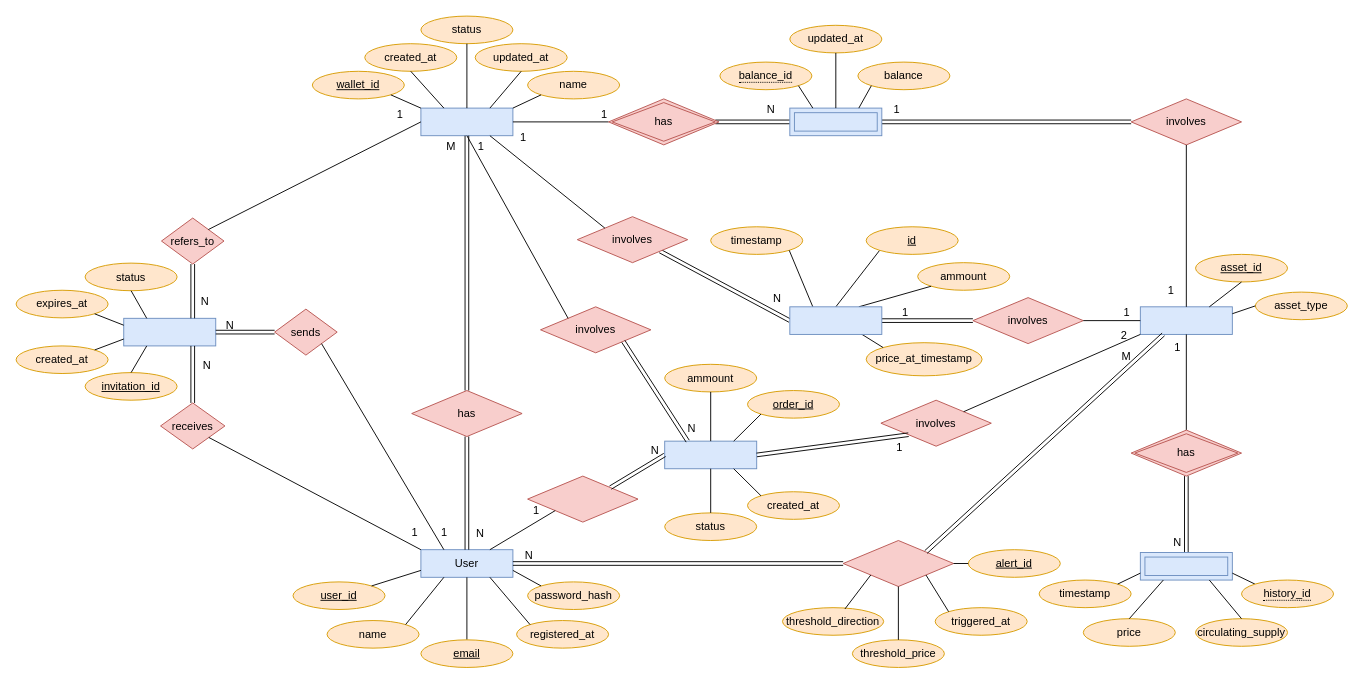
Image size: 1363x684. Some labels were removed from this diagram. The box of each missing label's shape, as (x1, y1, x2, y2) in pixels:
Asset: (1139, 306, 1232, 334)
AssetBalance: (789, 107, 882, 136)
AssetHistory: (1139, 552, 1232, 580)
gets_alert_from: (842, 540, 954, 586)
Invitation: (123, 317, 216, 346)
LedgerEntry: (789, 306, 882, 334)
makes: (527, 475, 638, 522)
Order: (664, 440, 757, 469)
Wallet: (420, 107, 513, 136)
